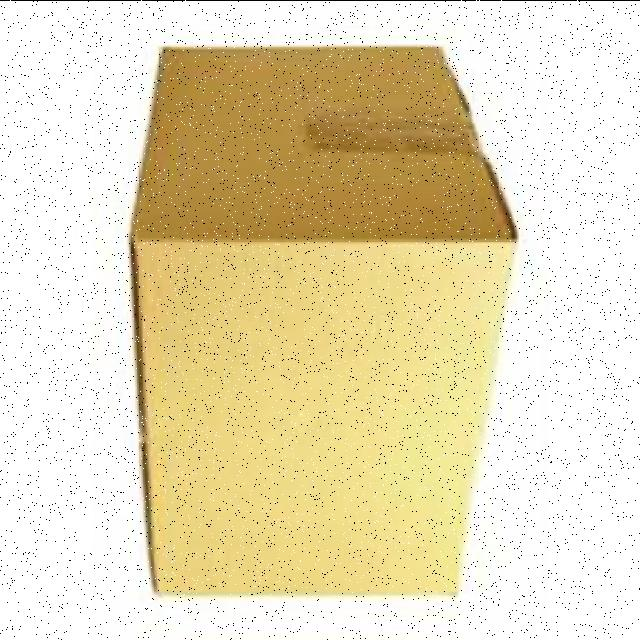normal: (126, 39, 523, 602)
